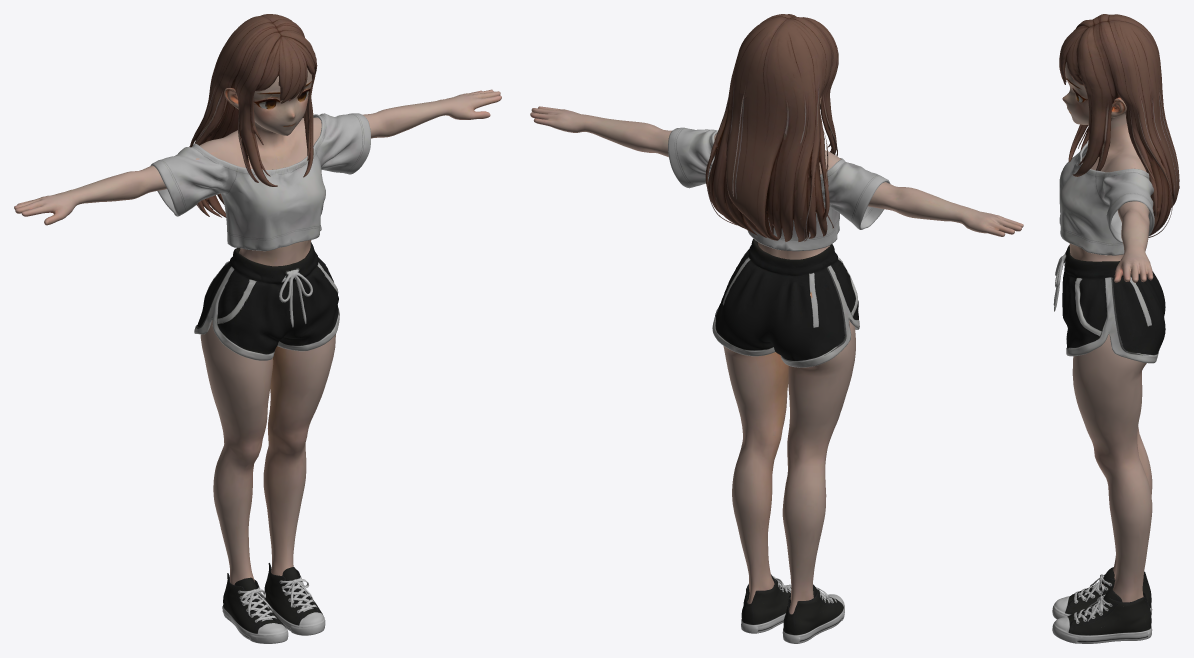
The model's file is mira.glb.
3 views of the same model, side by side, from view 1: azimuth 30°, elevation 25°; view 2: azimuth 150°, elevation 25°; view 3: azimuth 270°, elevation 25° (orthographic).
Parts seen in each view (by area): view 1: Object_10, Object_4, Object_6, Object_8, Object_13, Object_11; view 2: Object_10, Object_8, Object_6, Object_4, Object_13; view 3: Object_10, Object_8, Object_6, Object_4, Object_13, Object_11.
Part boxes in pixels (left/top/right/bottom): Object_10: left=14, top=89, right=501, bottom=584; Object_4: left=150, top=113, right=370, bottom=251; Object_6: left=194, top=242, right=339, bottom=360; Object_8: left=189, top=14, right=317, bottom=217; Object_13: left=222, top=563, right=325, bottom=643; Object_11: left=224, top=68, right=312, bottom=135; Object_10: left=530, top=106, right=1023, bottom=614; Object_8: left=705, top=14, right=838, bottom=241; Object_6: left=712, top=239, right=859, bottom=367; Object_4: left=668, top=127, right=890, bottom=251; Object_13: left=741, top=574, right=844, bottom=643; Object_10: left=1069, top=125, right=1153, bottom=602; Object_8: left=1059, top=14, right=1179, bottom=237; Object_6: left=1053, top=245, right=1165, bottom=363; Object_4: left=1059, top=142, right=1154, bottom=255; Object_13: left=1052, top=567, right=1152, bottom=643; Object_11: left=1062, top=62, right=1127, bottom=129.
Size of the model in its own units: 1.47 by 1.74 by 0.33.
Materials: 6 (6 with a texture image).
